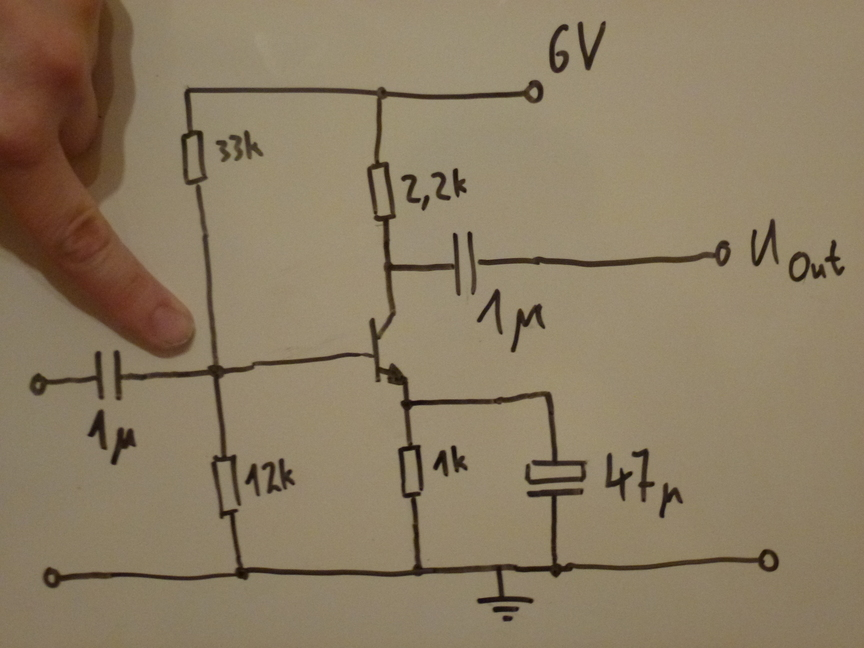capacitor.polarized: (520, 452, 592, 507)
capacitor.unpolarized: (444, 226, 491, 297), (85, 347, 140, 406)
gnd: (475, 587, 538, 625)
junction: (203, 357, 231, 384), (371, 82, 392, 103), (231, 562, 252, 583), (547, 559, 565, 581), (398, 394, 418, 413), (379, 259, 399, 277), (408, 561, 428, 579), (490, 558, 508, 576), (541, 387, 557, 404), (179, 83, 196, 98)
resistor: (204, 449, 244, 522), (362, 156, 399, 227), (391, 437, 430, 504), (177, 122, 213, 192)
terminal: (750, 546, 785, 575), (517, 76, 548, 107), (708, 237, 737, 270), (37, 564, 69, 592), (26, 369, 51, 399)
text: (748, 215, 851, 285), (600, 444, 688, 522), (475, 288, 552, 353), (545, 16, 611, 77), (85, 407, 145, 467), (398, 164, 470, 212), (241, 455, 302, 499), (213, 127, 267, 163), (430, 442, 472, 479)
transistor: (360, 306, 419, 390)
